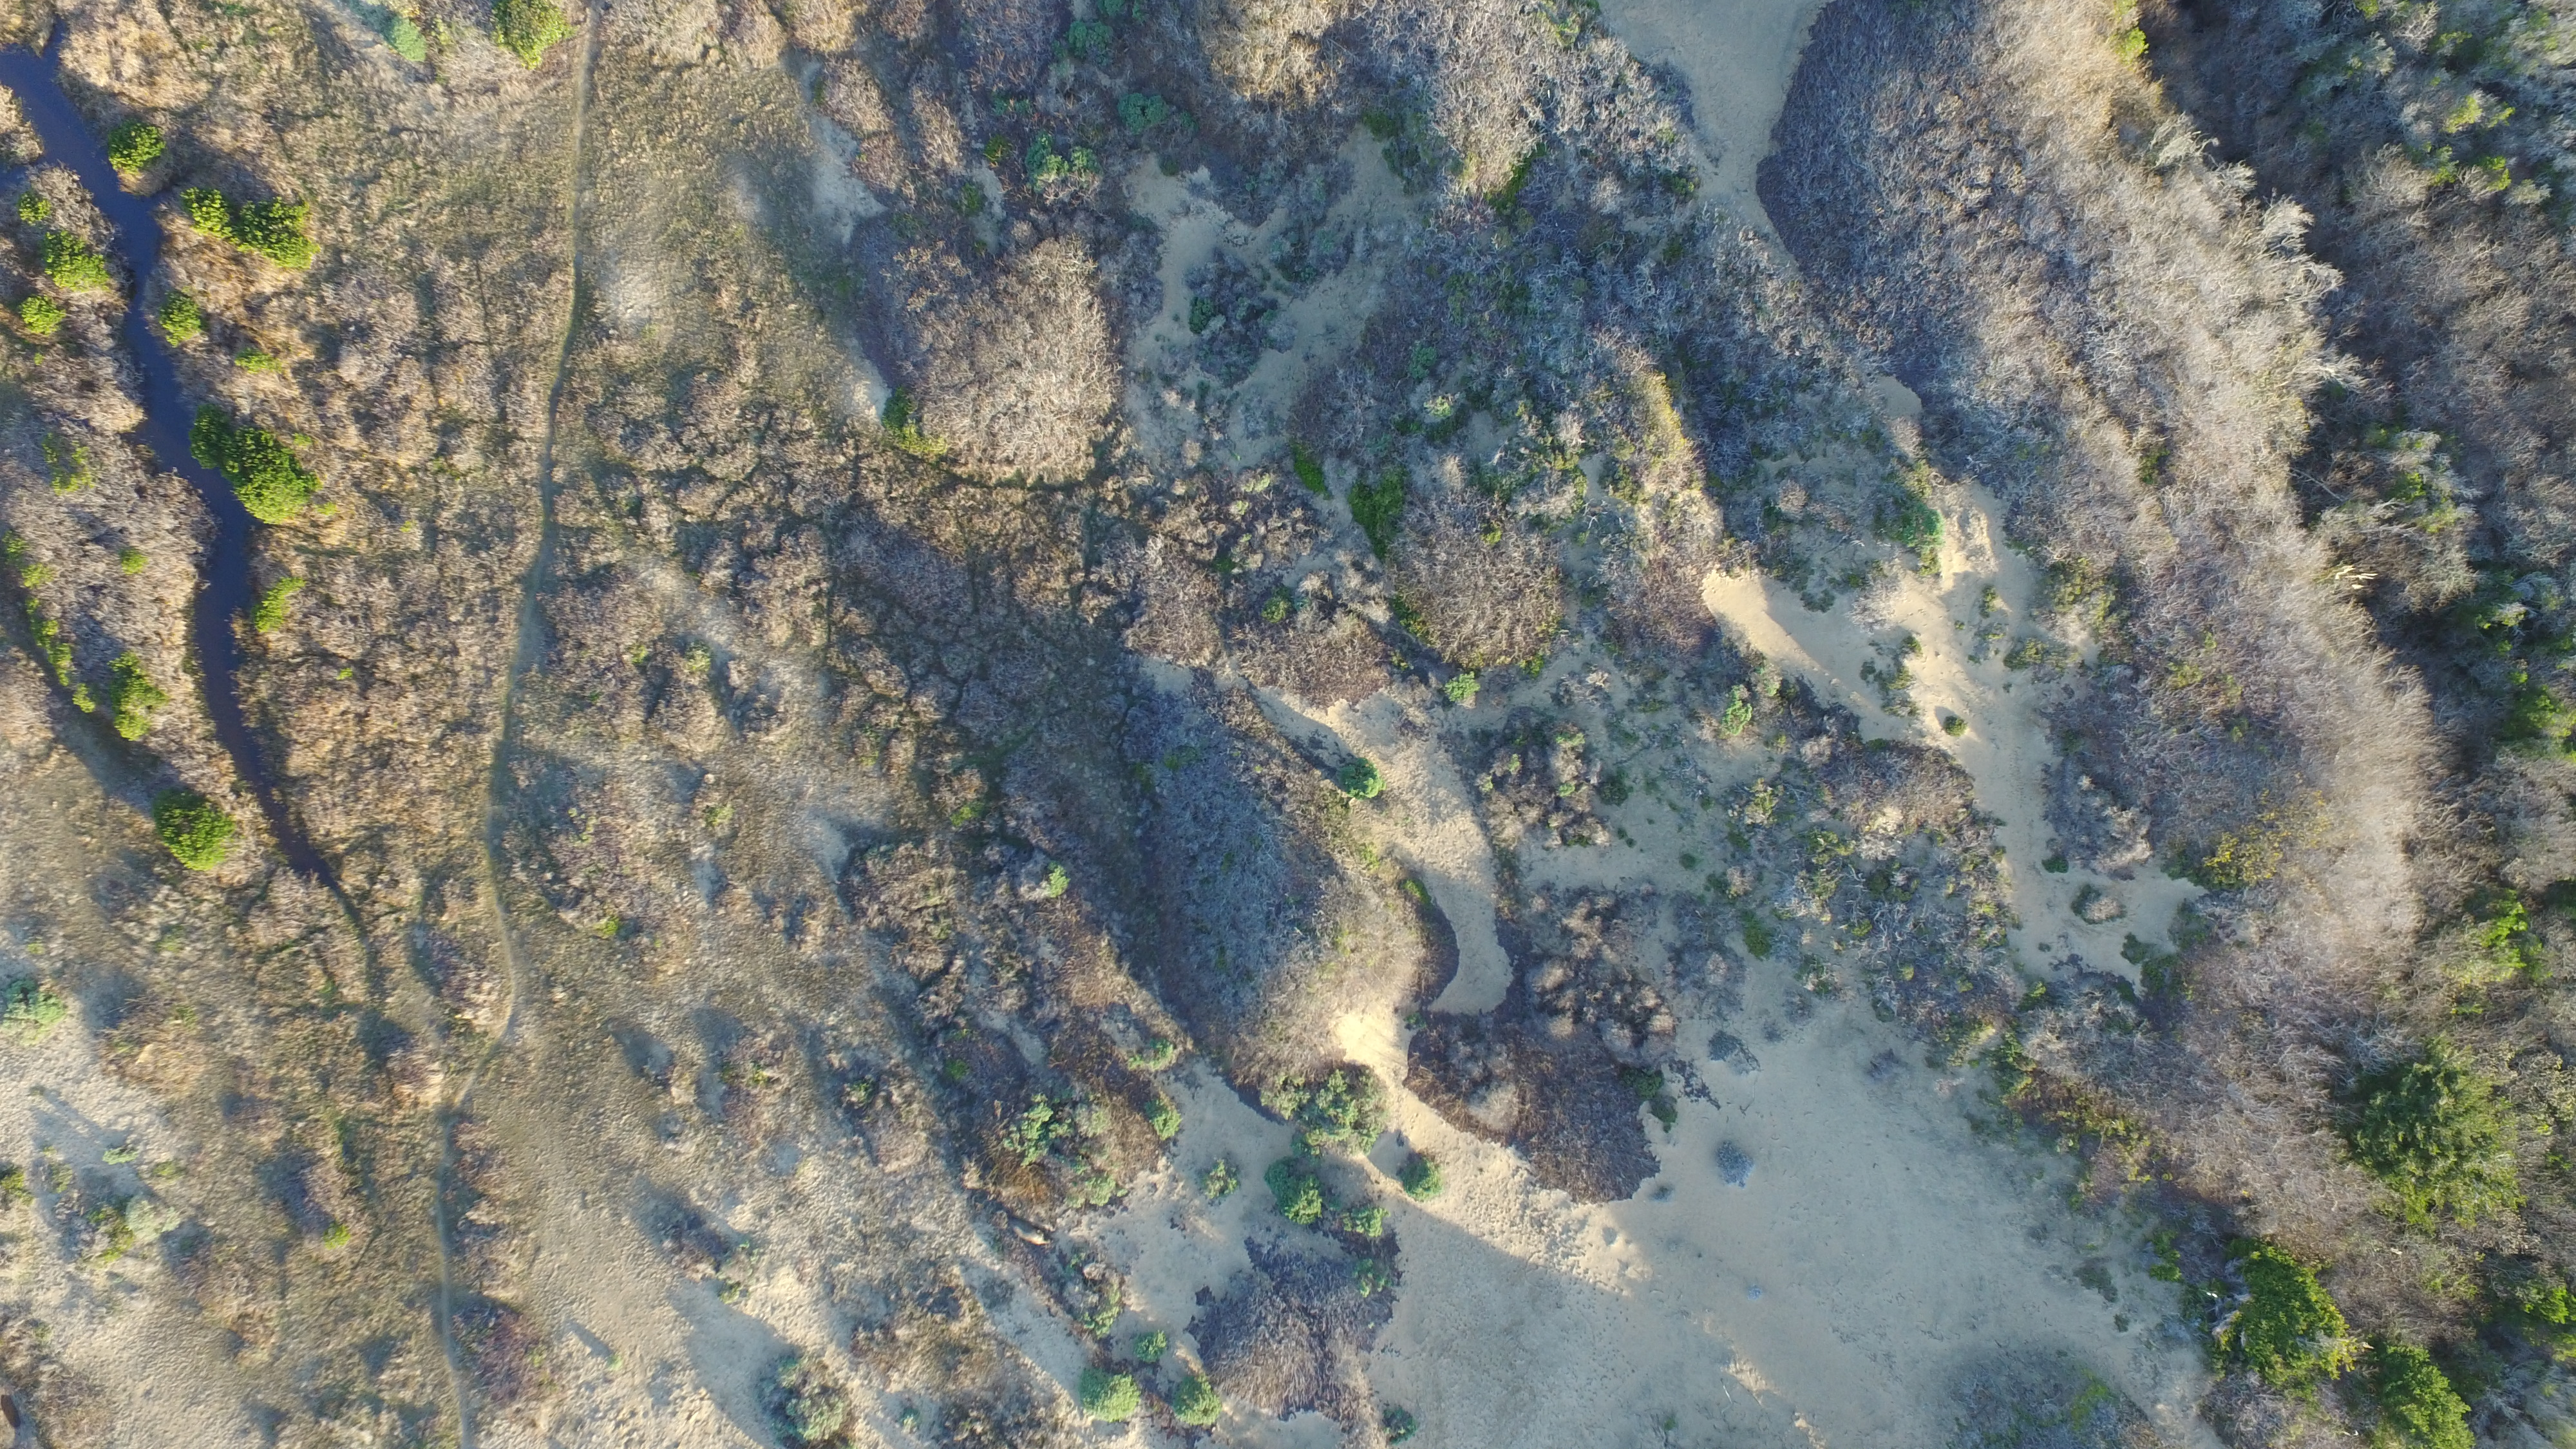male juvenile / female juvenile / adult female: (1005, 1207, 1058, 1249)
